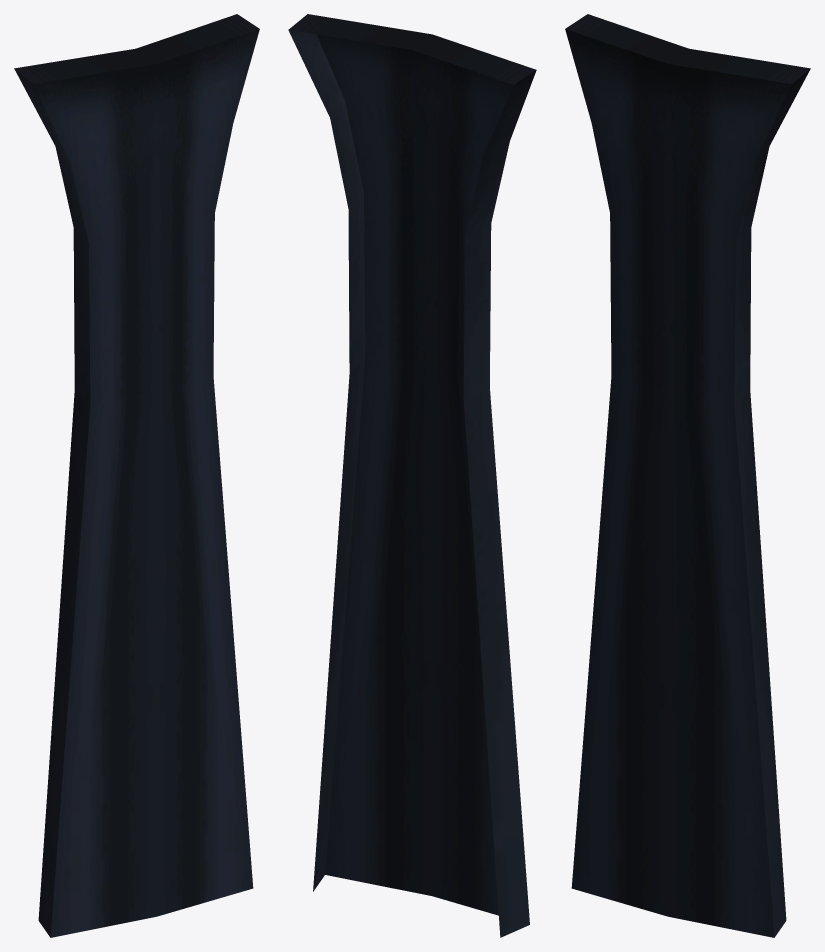
File: 10109_boss07.FBX
3 renders of one model, left to right at view 1: azimuth 30°, elevation 25°; view 2: azimuth 150°, elevation 25°; view 3: azimuth 330°, elevation 25°, orthographic.
Parts seen in each view (by area): view 1: 10109_boss07; view 2: 10109_boss07; view 3: 10109_boss07.
Boxes of the visible parts, x1,y1,x2,y2 form: 10109_boss07: [14, 14, 259, 937]; 10109_boss07: [288, 14, 536, 937]; 10109_boss07: [565, 14, 810, 937].
Bounding box in the file's own units: 872 × 3134 × 207.
